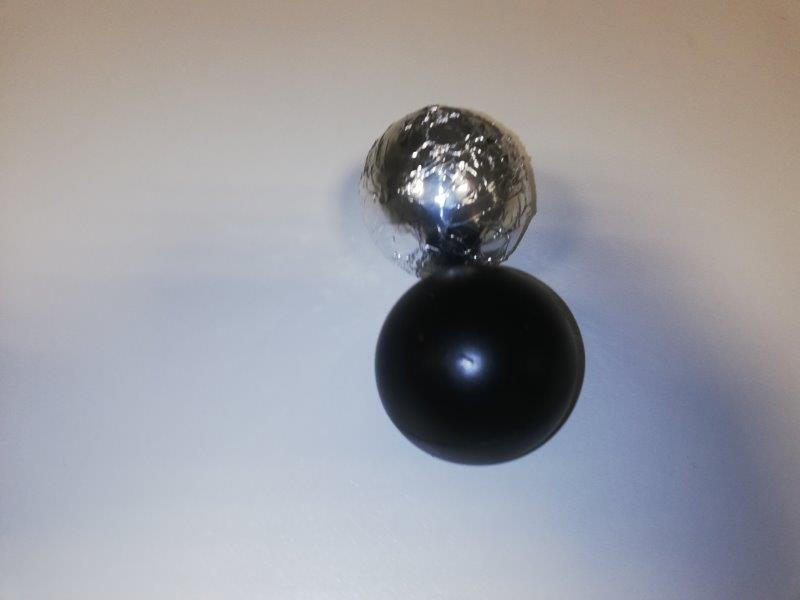bianca: (360, 100, 535, 271)
nera: (370, 268, 578, 466)
